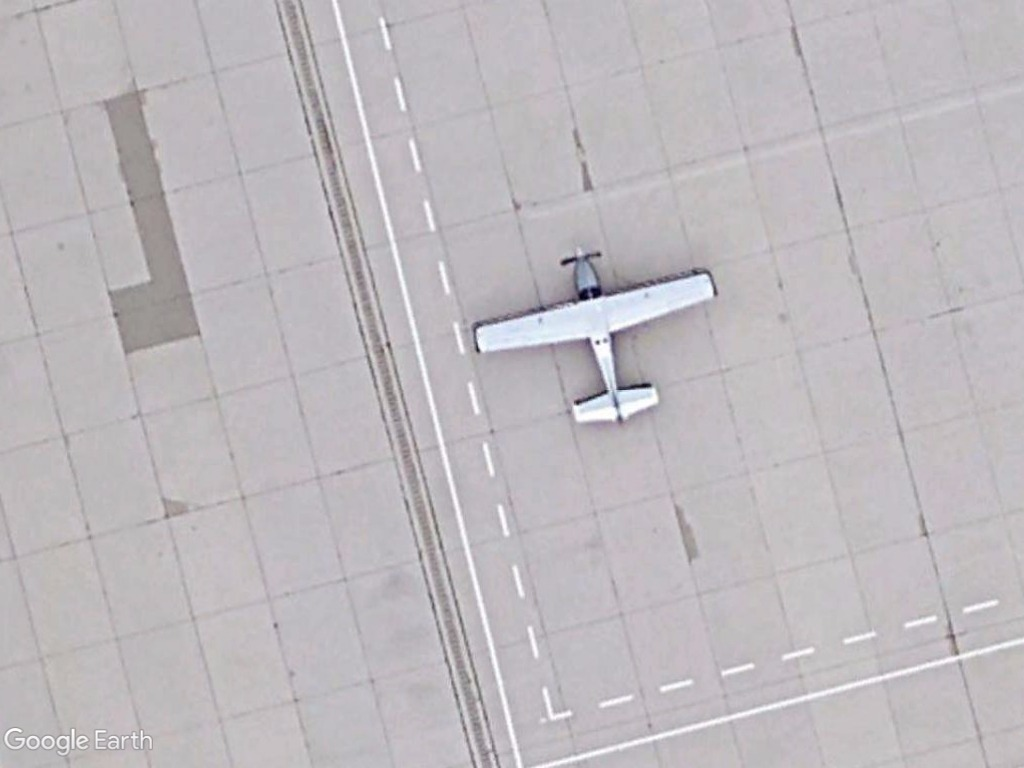trainer: (466, 248, 720, 431)
